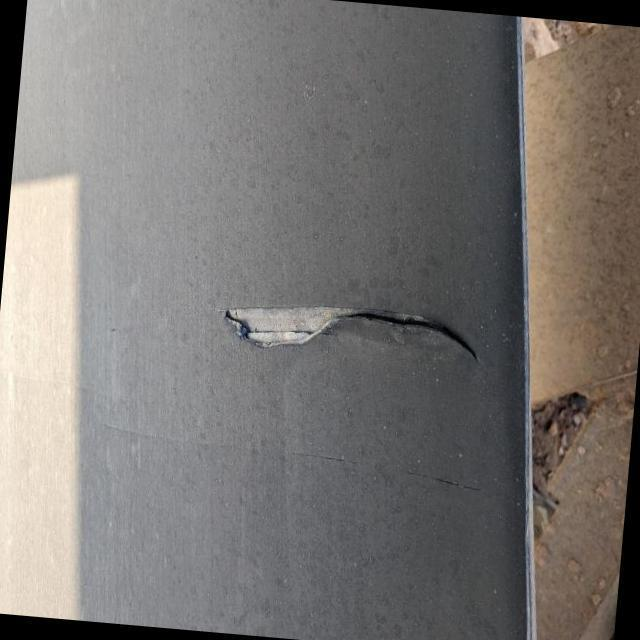Tear: (218, 304, 482, 372)
